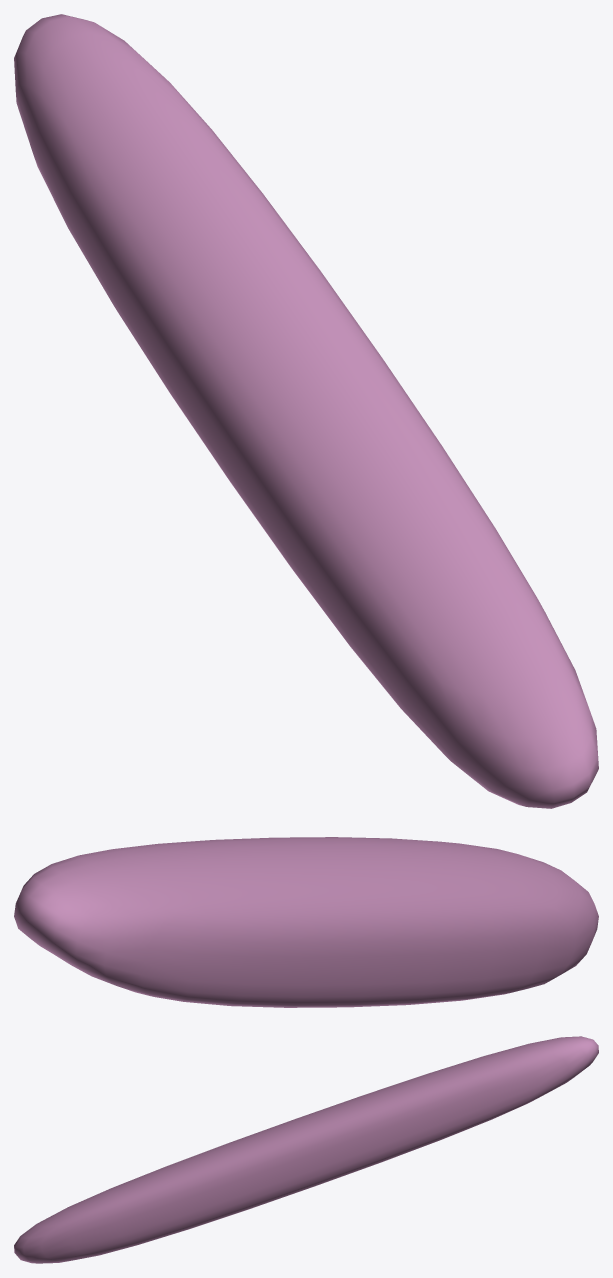
The picture shows the model from 3 angles, top to bottom: view 1: azimuth 30°, elevation 25°; view 2: azimuth 150°, elevation 25°; view 3: azimuth 270°, elevation 25°; orthographic projection. The views are drawn at different scales.
Parts seen in each view (by area): view 1: 右侧迷走神经背核; view 2: 右侧迷走神经背核; view 3: 右侧迷走神经背核.
Part boxes in pixels (box(x1,y1,x2,y2)): 右侧迷走神经背核: box(14, 14, 598, 808); 右侧迷走神经背核: box(14, 837, 598, 1007); 右侧迷走神经背核: box(14, 1036, 598, 1263).
Bounding box in the file's own units: 0.00173 × 0.00456 × 0.0106.
